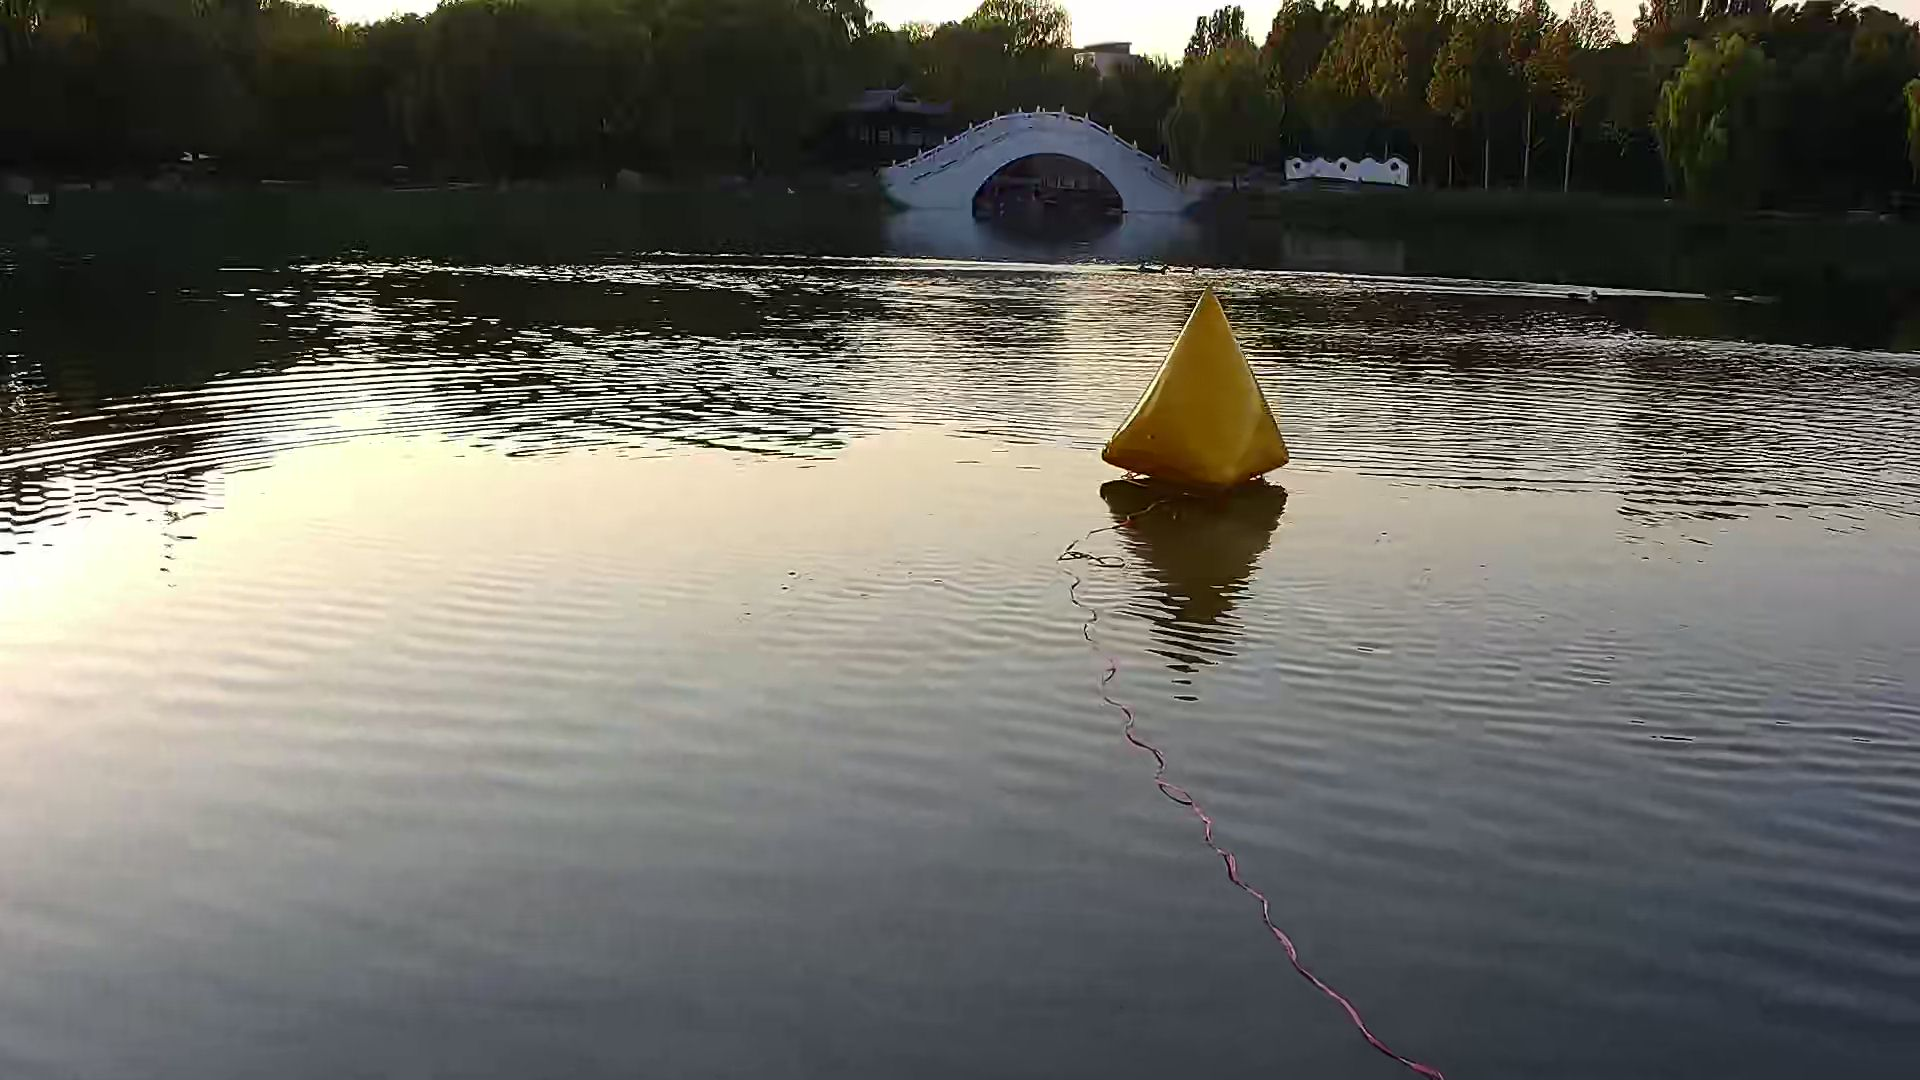bridge: (876, 105, 1197, 210)
rubbish: (1104, 285, 1286, 508)
